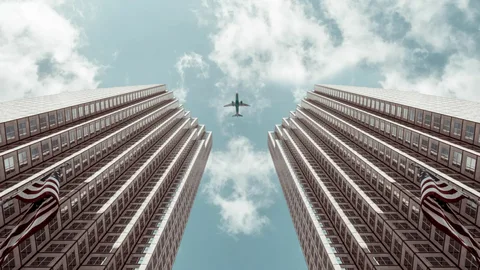high_rise_building: (263, 69, 442, 263), (95, 63, 217, 261)
